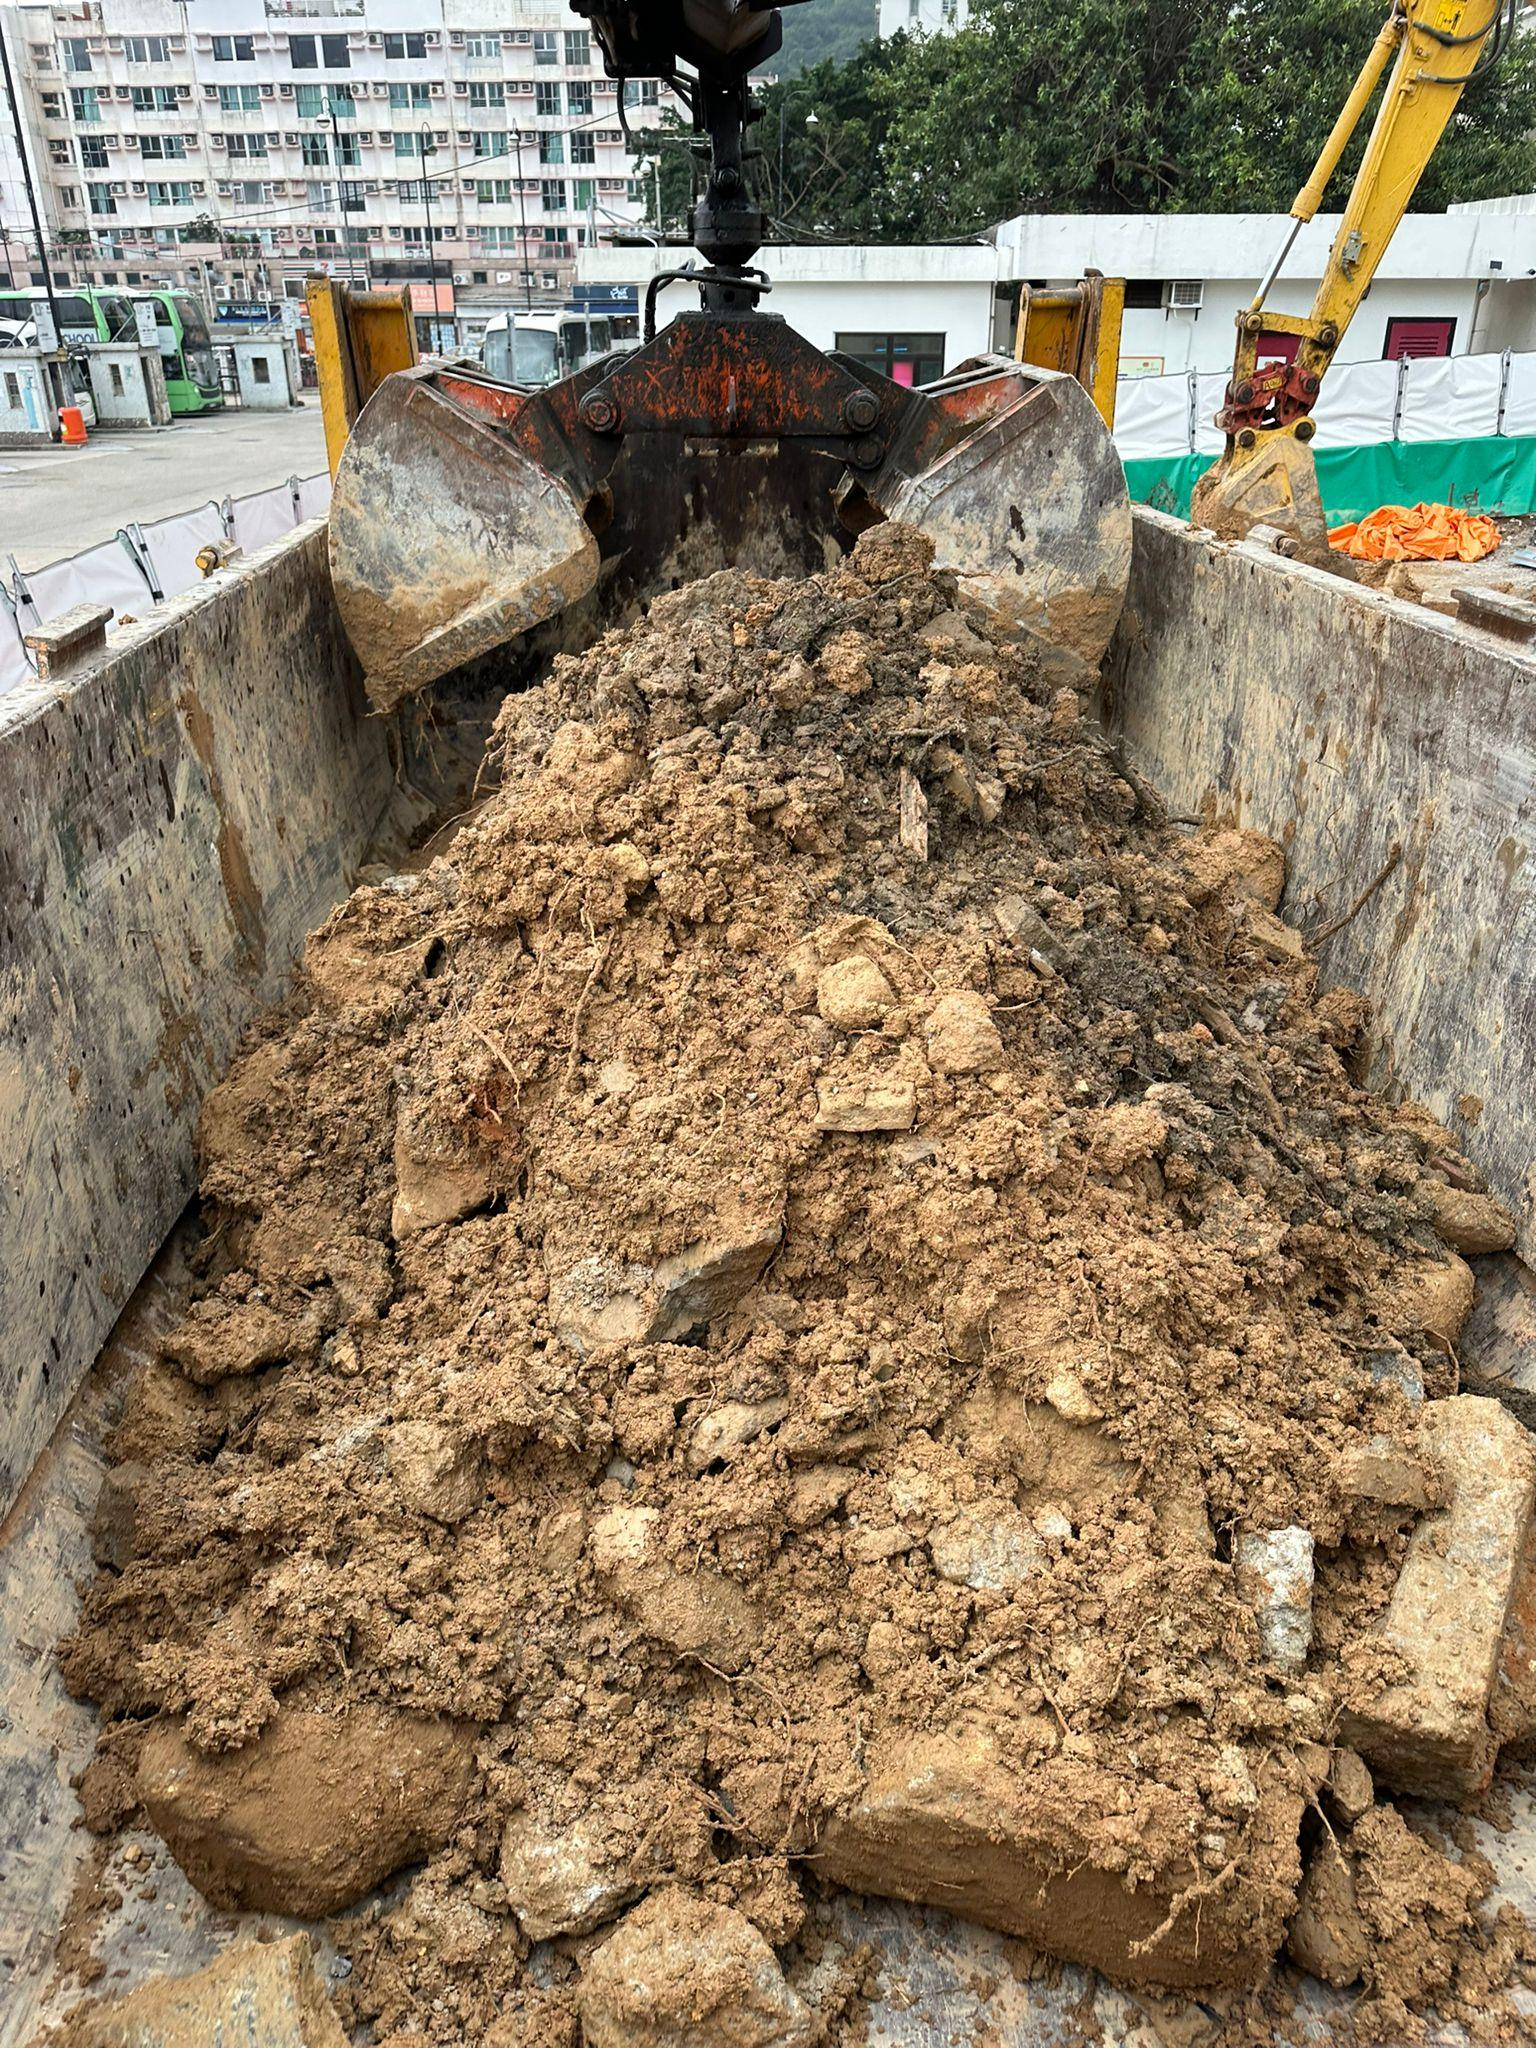wet: (123, 587, 1507, 2027)
